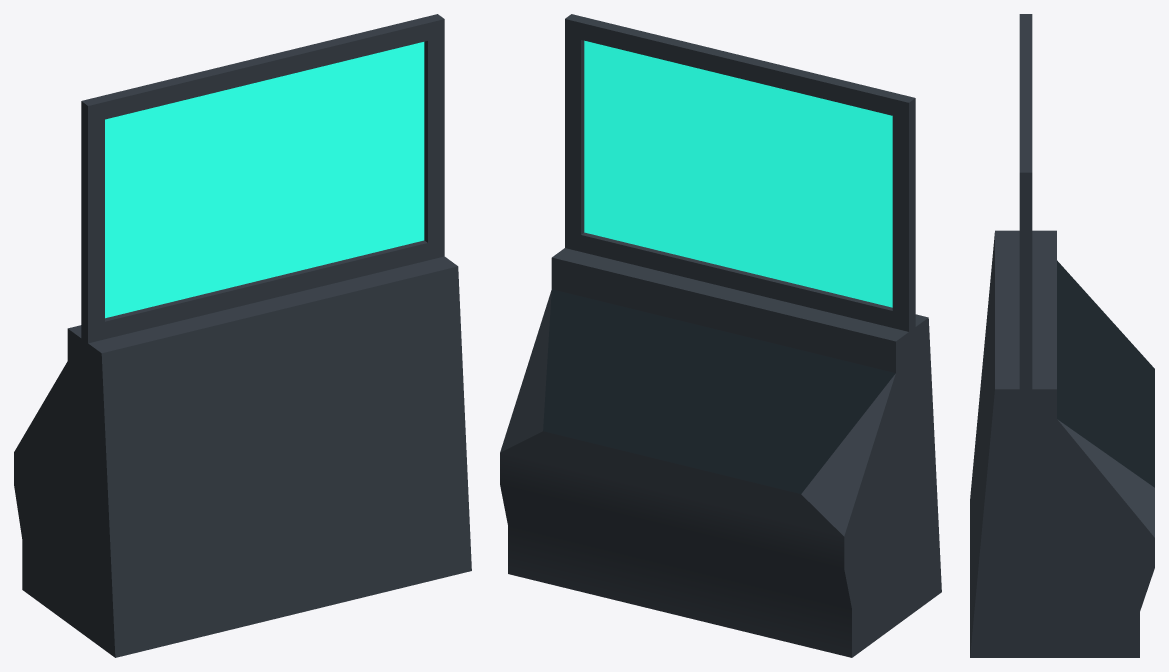
Rendered from computer_console.glb.
3 renders of one model, left to right at view 1: azimuth 30°, elevation 25°; view 2: azimuth 150°, elevation 25°; view 3: azimuth 270°, elevation 25°, orthographic. The views are drawn at different scales.
Parts seen in each view (by area): view 1: consoleScreen; view 2: consoleScreen; view 3: consoleScreen.
Boxes of the visible parts, x1,y1,x2,y2 form: consoleScreen: (14,14,471,657); consoleScreen: (500,14,941,657); consoleScreen: (970,14,1154,657).
Bounding box in the file's own units: 0.9118 × 1.3 × 0.4487.
